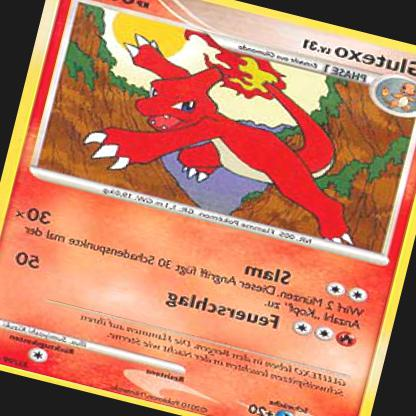Charmeleon: (79, 24, 373, 233)
